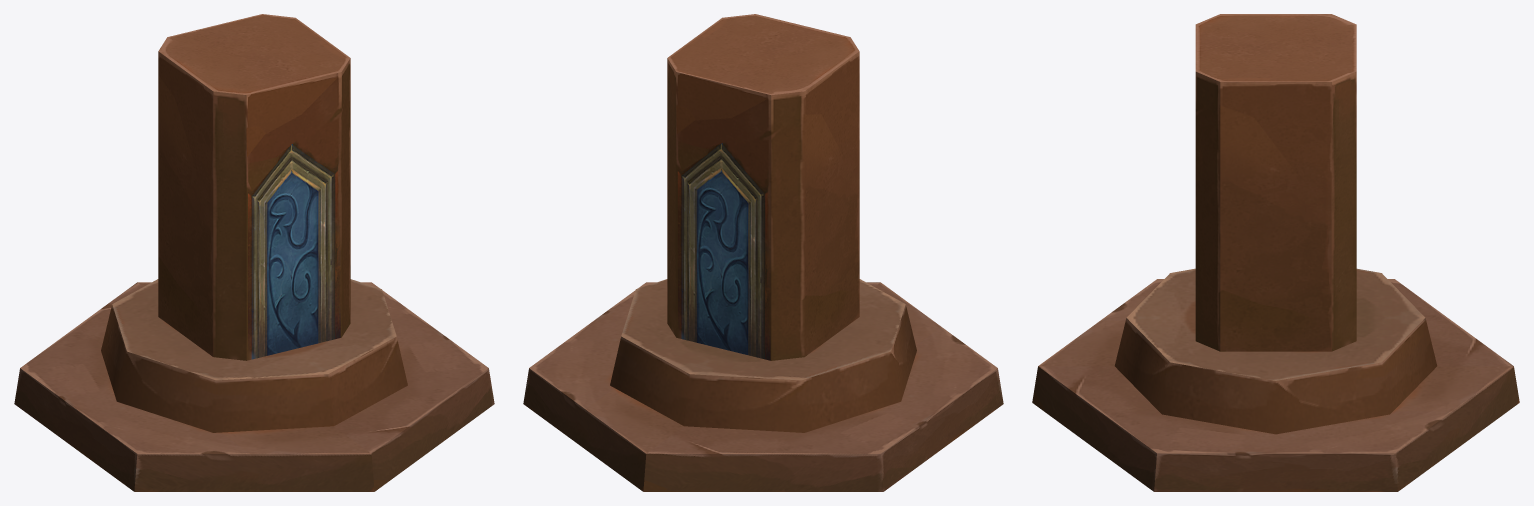
The model's file is guchengqishituan_wujian_27.FBX.
3 views of the same model, side by side, from view 1: azimuth 30°, elevation 25°; view 2: azimuth 150°, elevation 25°; view 3: azimuth 270°, elevation 25° (orthographic).
Visible parts, largest first — view 1: GCQST_wujian24; view 2: GCQST_wujian24; view 3: GCQST_wujian24.
Boxes of the visible parts, bbox=[...] form: GCQST_wujian24: bbox=[14, 14, 494, 491]; GCQST_wujian24: bbox=[523, 14, 1003, 491]; GCQST_wujian24: bbox=[1032, 14, 1519, 491].
Size of the model in its own units: 2.93 by 2.72 by 3.38.
